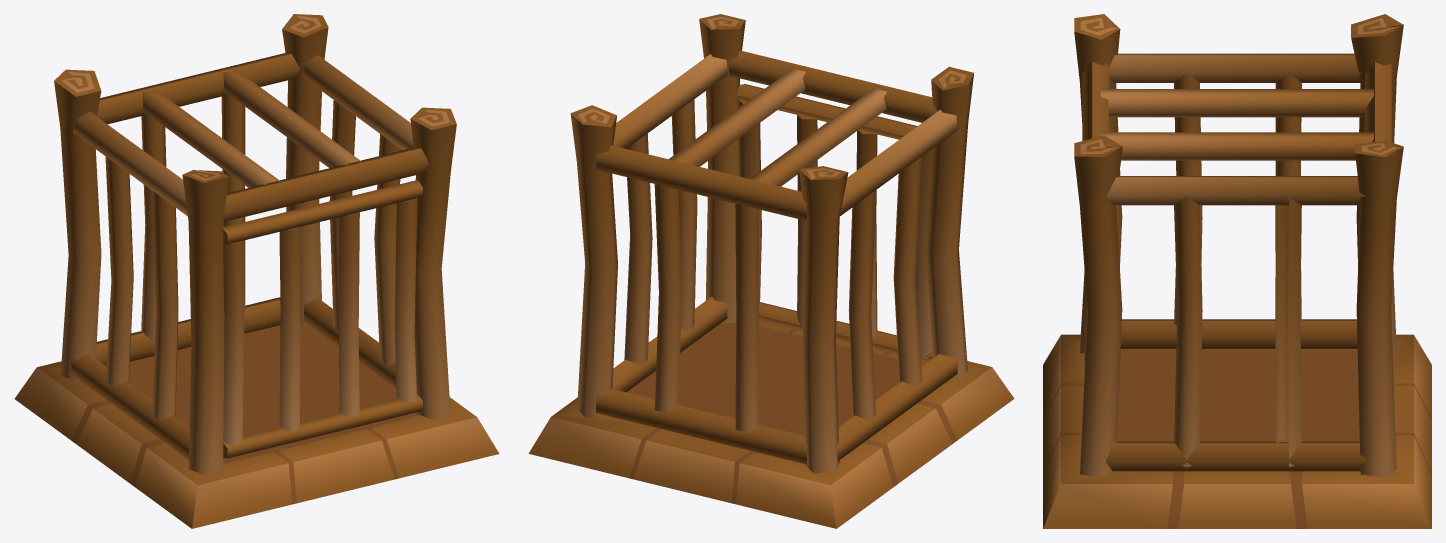
The model's file is Сage.fbx.
3 views of the same model, side by side, from view 1: azimuth 30°, elevation 25°; view 2: azimuth 150°, elevation 25°; view 3: azimuth 270°, elevation 25° (orthographic). The views are drawn at different scales.
Parts seen in each view (by area): view 1: Cube.022, Cylinder.018; view 2: Cube.022, Cylinder.018; view 3: Cube.022.
Part boxes in pixels (x1=…): Cube.022: x1=14, y1=14, x2=499, y2=528; Cylinder.018: x1=223, y1=180, x2=422, y2=458; Cube.022: x1=528, y1=14, x2=1014, y2=528; Cylinder.018: x1=736, y1=84, x2=932, y2=361; Cube.022: x1=1043, y1=14, x2=1431, y2=528.
Bounding box in the file's own units: 1.19 × 1.19 × 1.22.
